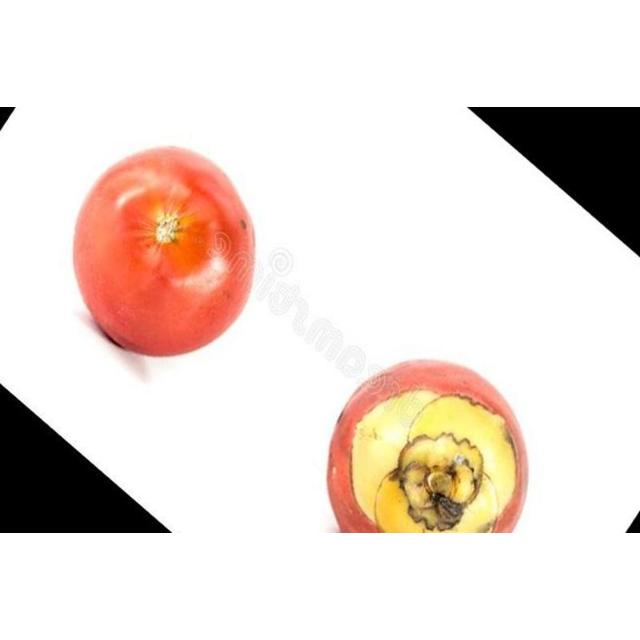good: (74, 148, 254, 355), (328, 363, 526, 533)
